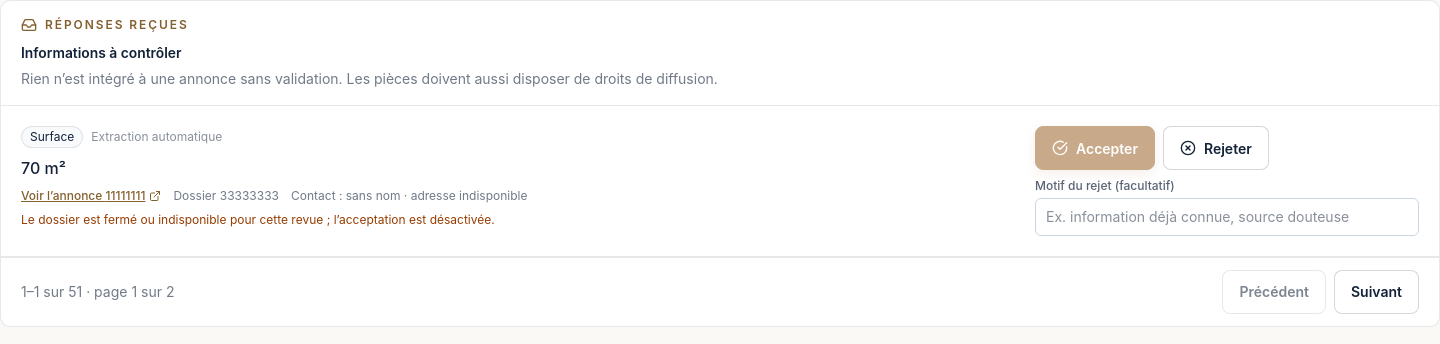
it: AdminInformationAgentReviewPanel › lets an admin reach facts beyond the first page and come back
Expected: the text "1–1 sur 51 · page 1 sur 2" is shown, [21,282,174,302]
What coordinates should you click on to do the following:
click the button with aria-label "Suivant — réponses et informations à contrôler"
I would click on:
 (1376, 292)
Its box is [1334,270,1419,314].
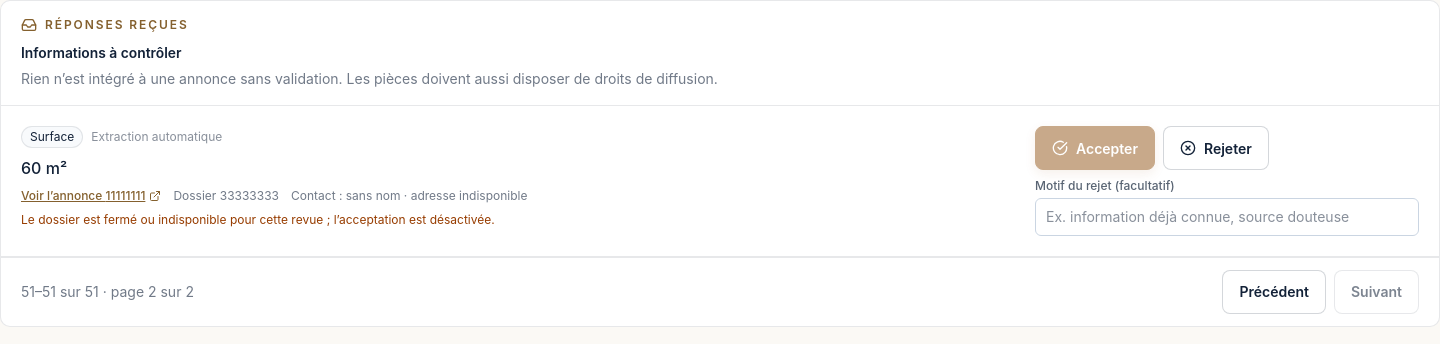
Result: the text "60 m²" is shown at [21,158,67,178]
Result: the button with aria-label "Suivant — réponses et informations à contrôler" is disabled at [1334,270,1419,314]
What coordinates should you click on to do the following:
click the button with aria-label "Précédent — réponses et informations à contrôler"
I would click on:
 (1274, 292)
Its box is [1222,270,1326,314].
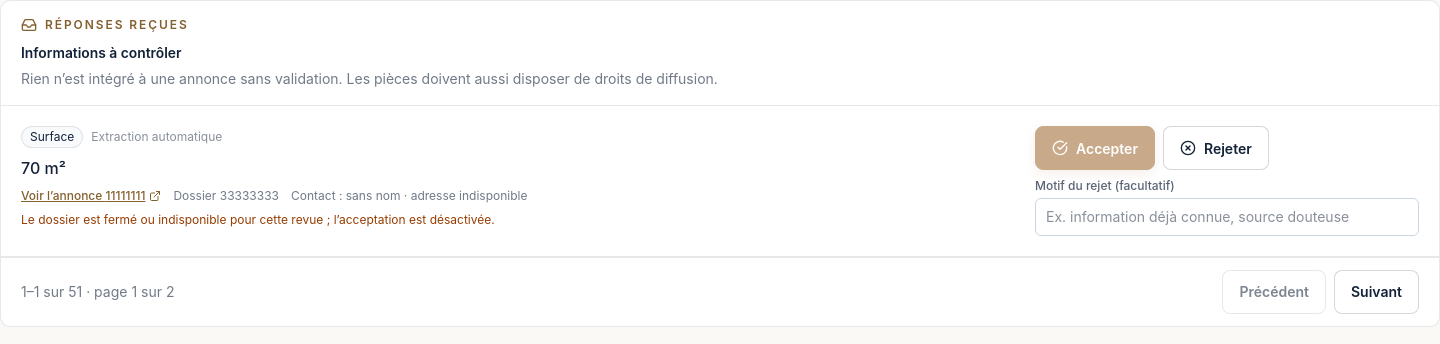
Result: the text "70 m²" is shown at [21,158,66,178]
